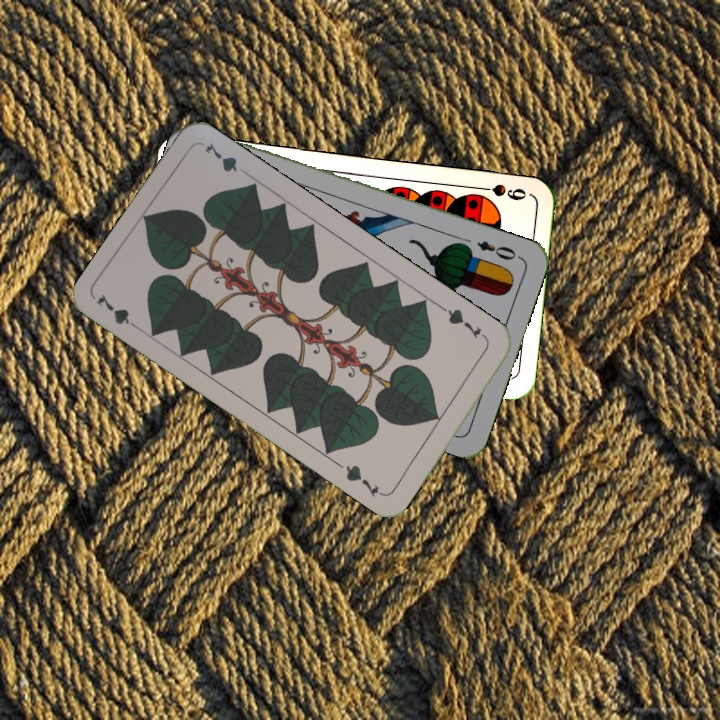EO: (473, 236, 524, 263)
G7: (92, 290, 145, 334), (439, 303, 490, 343)
S9: (471, 180, 529, 203)
